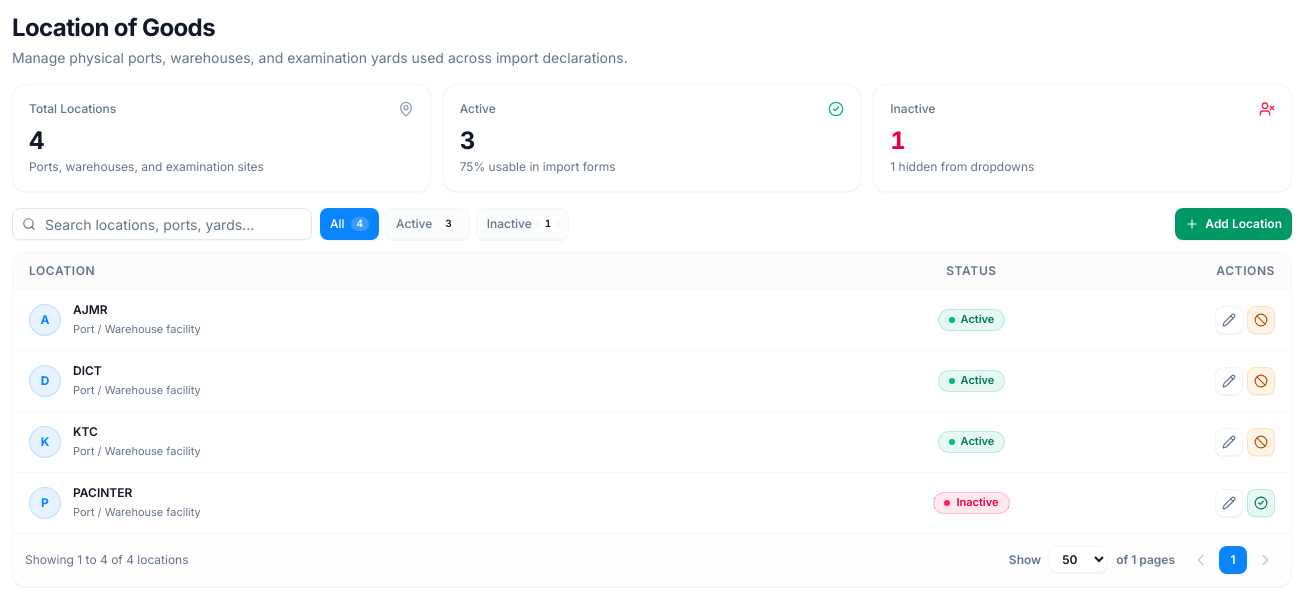
LocationOfGoodsManagement › filters locations by status pill buttons
Click the button "Active 3" at (427,224), box [385,208,470,240]
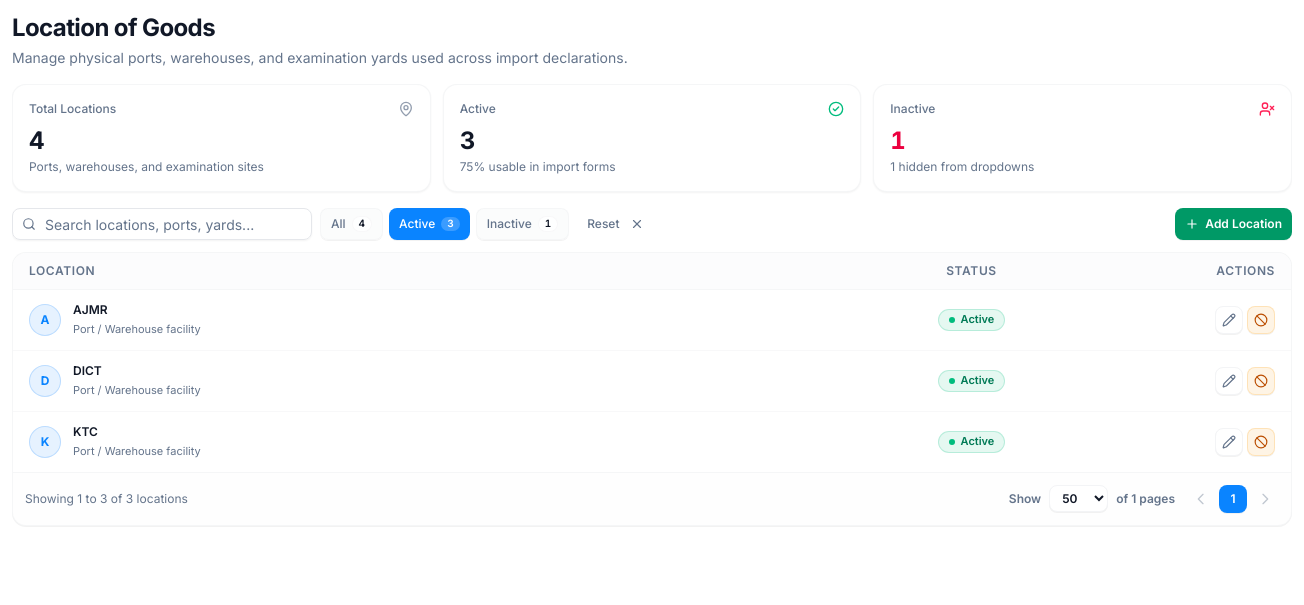
expect the text "AJMR" is shown: met, box [73,302,108,316]
expect the text "PACINTER" is gone: met
